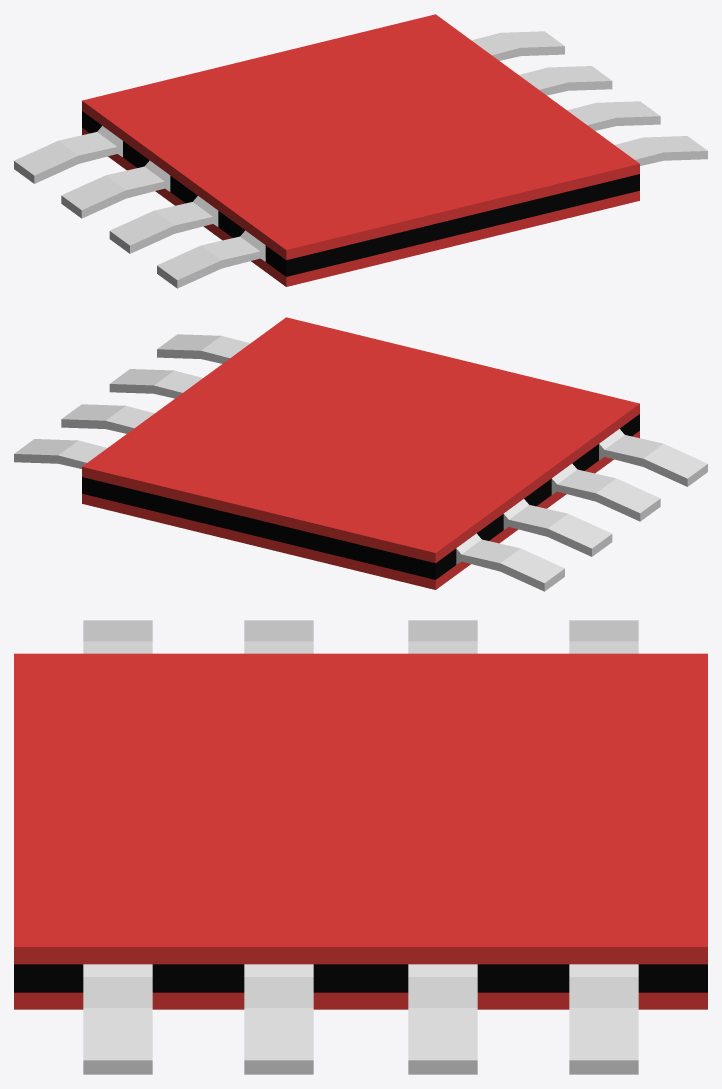
The model's file is Chip.fbx.
3 views of the same model, one above another, from view 1: azimuth 30°, elevation 25°; view 2: azimuth 150°, elevation 25°; view 3: azimuth 270°, elevation 25° (orthographic). The views are drawn at different scales.
Parts seen in each view (by area): view 1: Rim; view 2: Rim; view 3: Rim.
Boxes of the visible parts, bbox=[...] form: Rim: bbox=[14, 14, 707, 288]; Rim: bbox=[14, 317, 707, 591]; Rim: bbox=[14, 620, 707, 1074].
Bounding box in the file's own units: 300 × 20 × 200.
